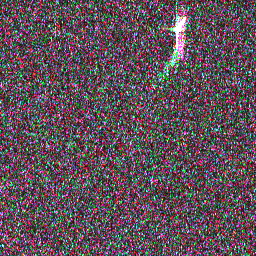ship: (171, 14, 189, 35)
